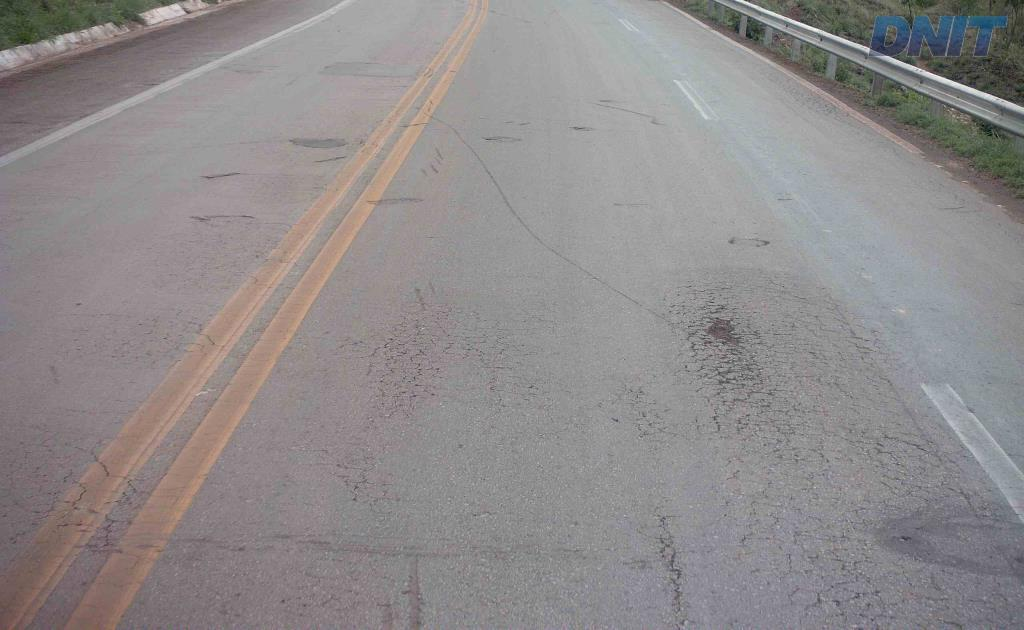crack: (697, 357, 771, 416), (803, 548, 873, 610), (827, 576, 879, 628), (401, 553, 428, 629), (985, 588, 1023, 629), (295, 539, 381, 557), (695, 292, 744, 320), (663, 547, 682, 618)
pothole: (699, 310, 749, 349)
